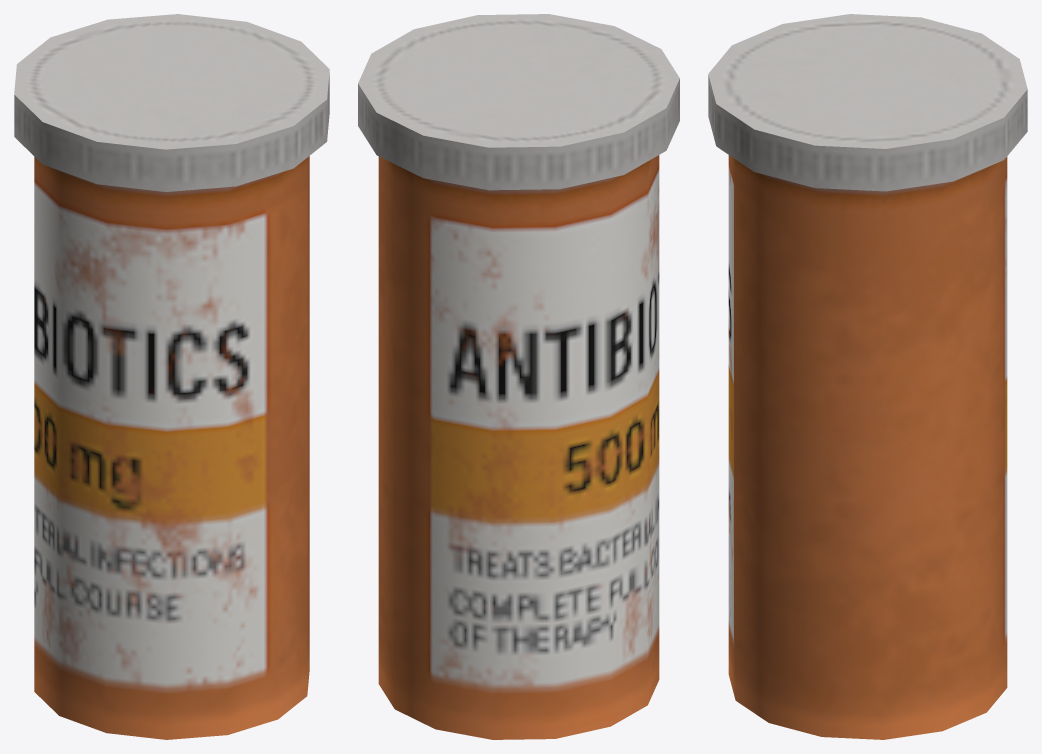
File: HH_Pill_Bottle_06.fbx
3 views of the same model, side by side, from view 1: azimuth 30°, elevation 25°; view 2: azimuth 150°, elevation 25°; view 3: azimuth 270°, elevation 25° (orthographic).
Parts seen in each view (by area): view 1: HH_Pill_Bottle_06_LOD0; view 2: HH_Pill_Bottle_06_LOD0; view 3: HH_Pill_Bottle_06_LOD0.
Boxes of the visible parts, box(x1,y1,x2,y2) form: HH_Pill_Bottle_06_LOD0: box(14, 14, 329, 739); HH_Pill_Bottle_06_LOD0: box(358, 14, 679, 739); HH_Pill_Bottle_06_LOD0: box(708, 14, 1027, 739).
Size of what is drawn, in the model's own units: 6.94 by 14.37 by 6.94.
